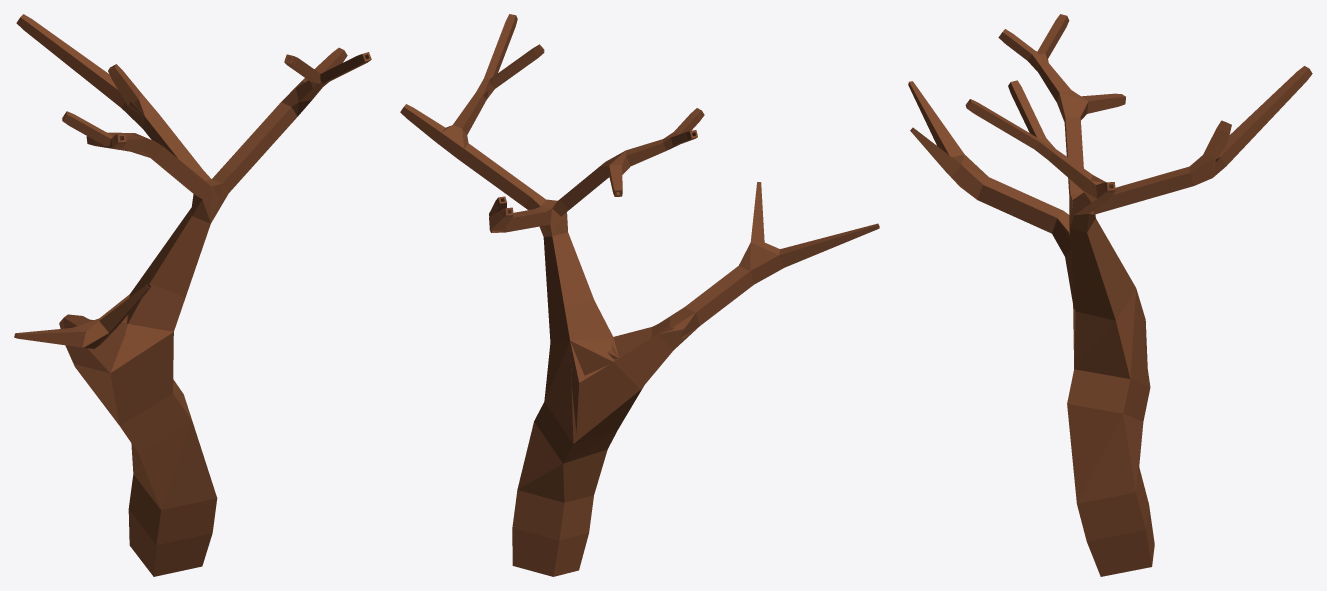
The model's file is Tree1.1.fbx.
3 views of the same model, side by side, from view 1: azimuth 30°, elevation 25°; view 2: azimuth 150°, elevation 25°; view 3: azimuth 270°, elevation 25° (orthographic). The views are drawn at different scales.
Visible parts, largest first — view 1: Trunck Tree1.1; view 2: Trunck Tree1.1; view 3: Trunck Tree1.1.
Boxes of the visible parts, x1,y1,x2,y2 form: Trunck Tree1.1: [14, 14, 371, 576]; Trunck Tree1.1: [400, 14, 879, 576]; Trunck Tree1.1: [908, 14, 1312, 576].
Size of the model in its own units: 907 by 1075 by 755.
